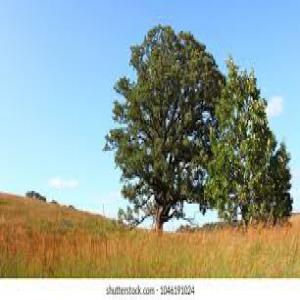Tree: (102, 18, 223, 233), (207, 56, 294, 224)
